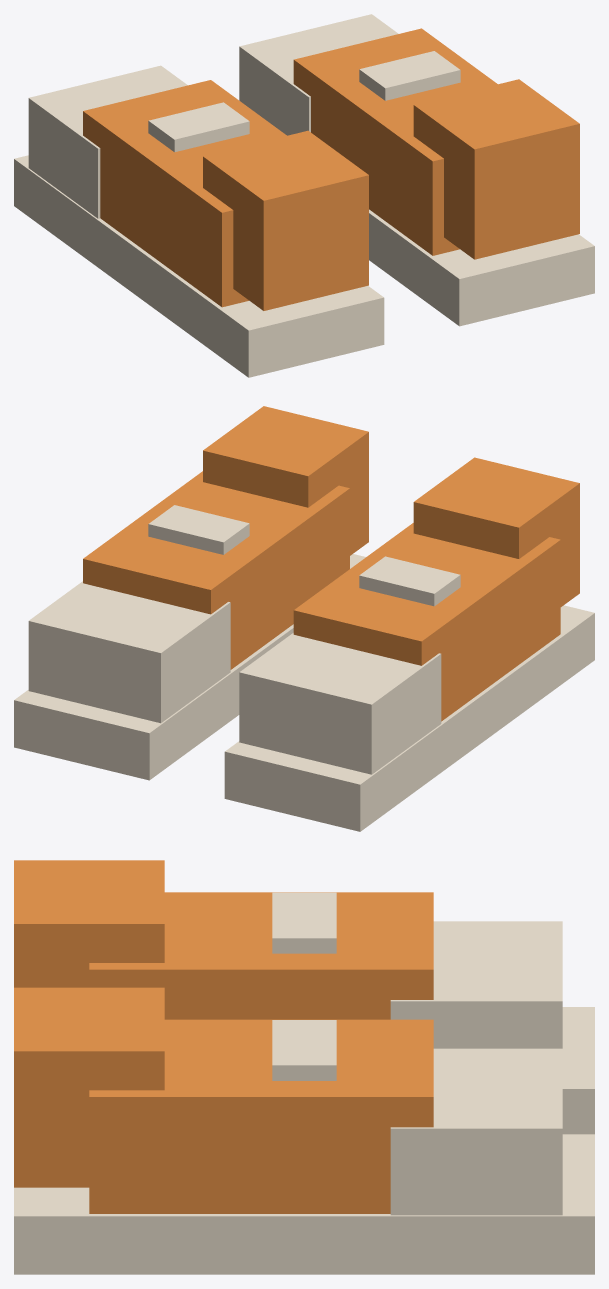
File: sneakers.glb
The picture shows the model from 3 angles, top to bottom: view 1: azimuth 30°, elevation 25°; view 2: azimuth 150°, elevation 25°; view 3: azimuth 270°, elevation 25°; orthographic projection. The views are drawn at different scales.
Visible parts, largest first — view 1: prop_sneakers; view 2: prop_sneakers; view 3: prop_sneakers.
Boxes of the visible parts, x1,y1,x2,y2 form: prop_sneakers: (14, 14, 594, 377); prop_sneakers: (14, 406, 594, 831); prop_sneakers: (14, 860, 594, 1274).
Bounding box in the file's own units: 0.23 × 0.11 × 0.27.
